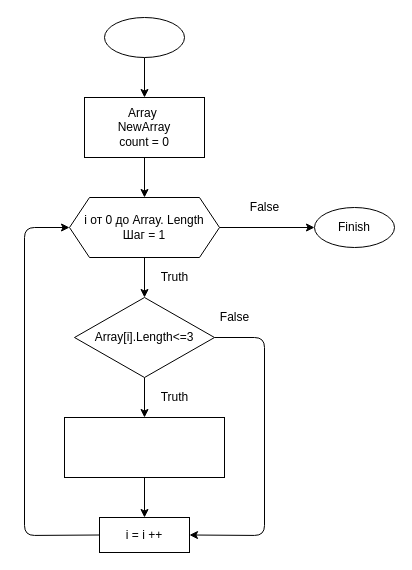
This 412x570 diagram has some shape labels left out. Each missing label, with the centre of its shape:
"NewArray[count] = Arrai[i] count ++" goes at [144,447].
"Start" goes at [144,37].
